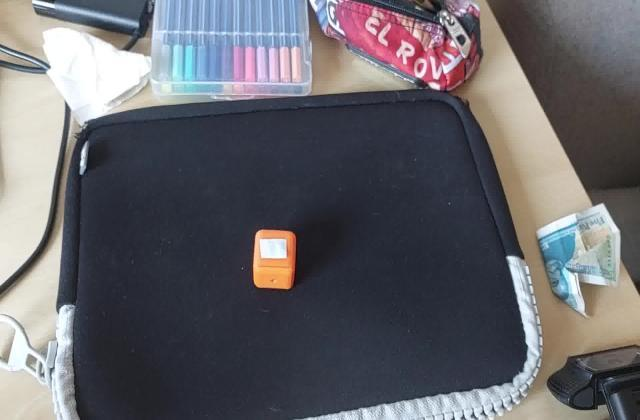sticker: (252, 230, 300, 292)
white: (258, 236, 291, 260)
